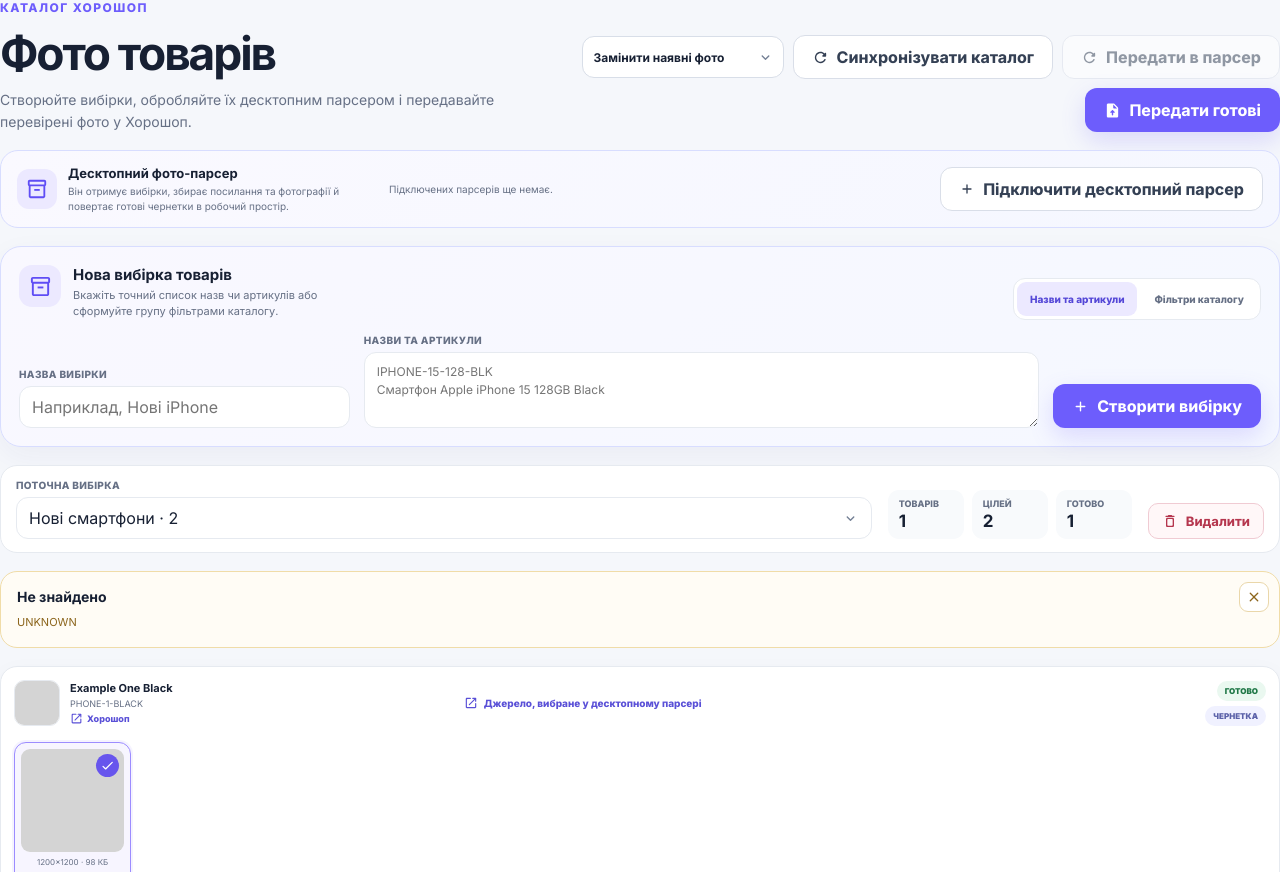
Test: HoroshopPhotoParserPage › removes a deleted selection from the page immediately
Expected: the button with aria-label "Поточна вибірка товарів" reads "Нові смартфони · 2", [16,497,872,539]
Click the button "Видалити" at (1206, 521), box [1148,503,1264,539]
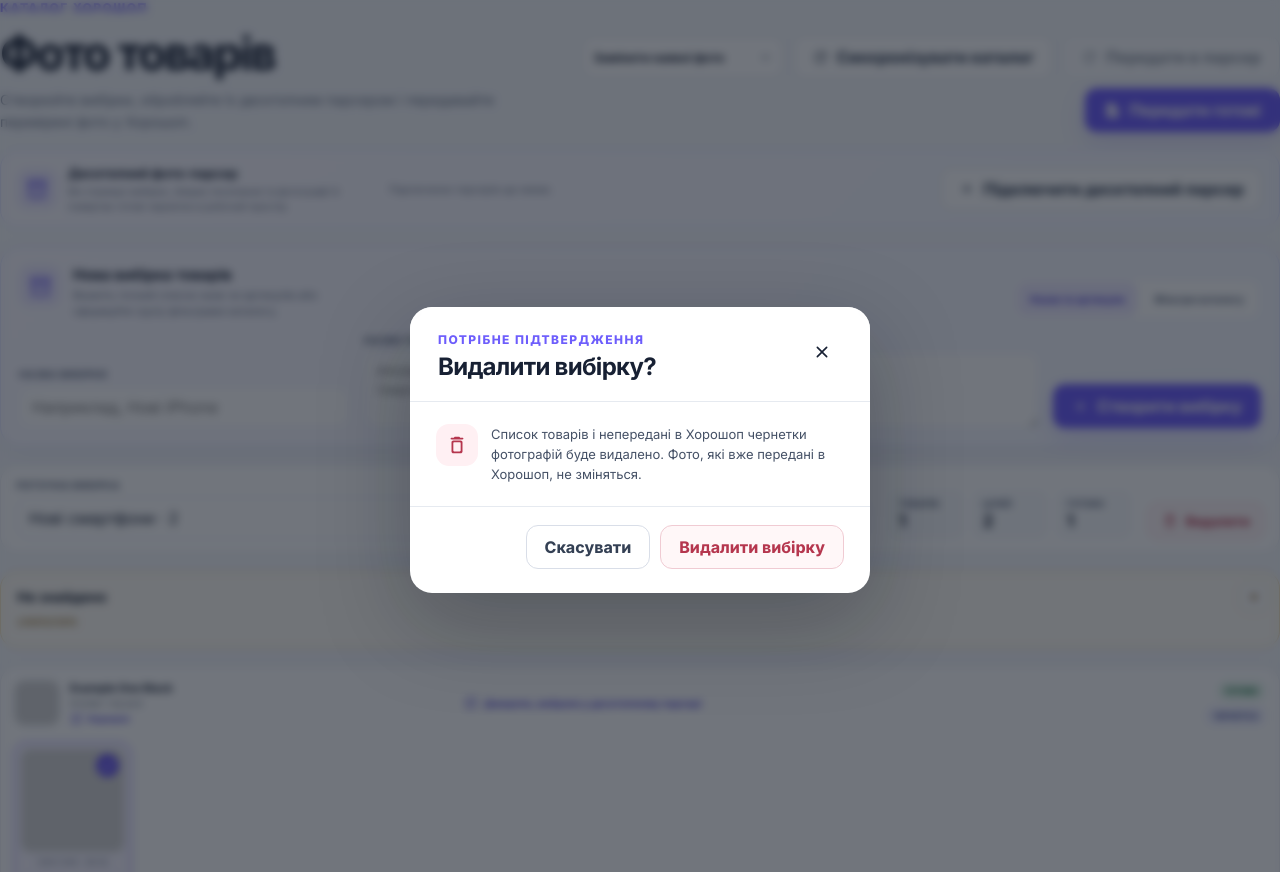
Click the button "Видалити вибірку" at (752, 547), box [660,525,844,569]
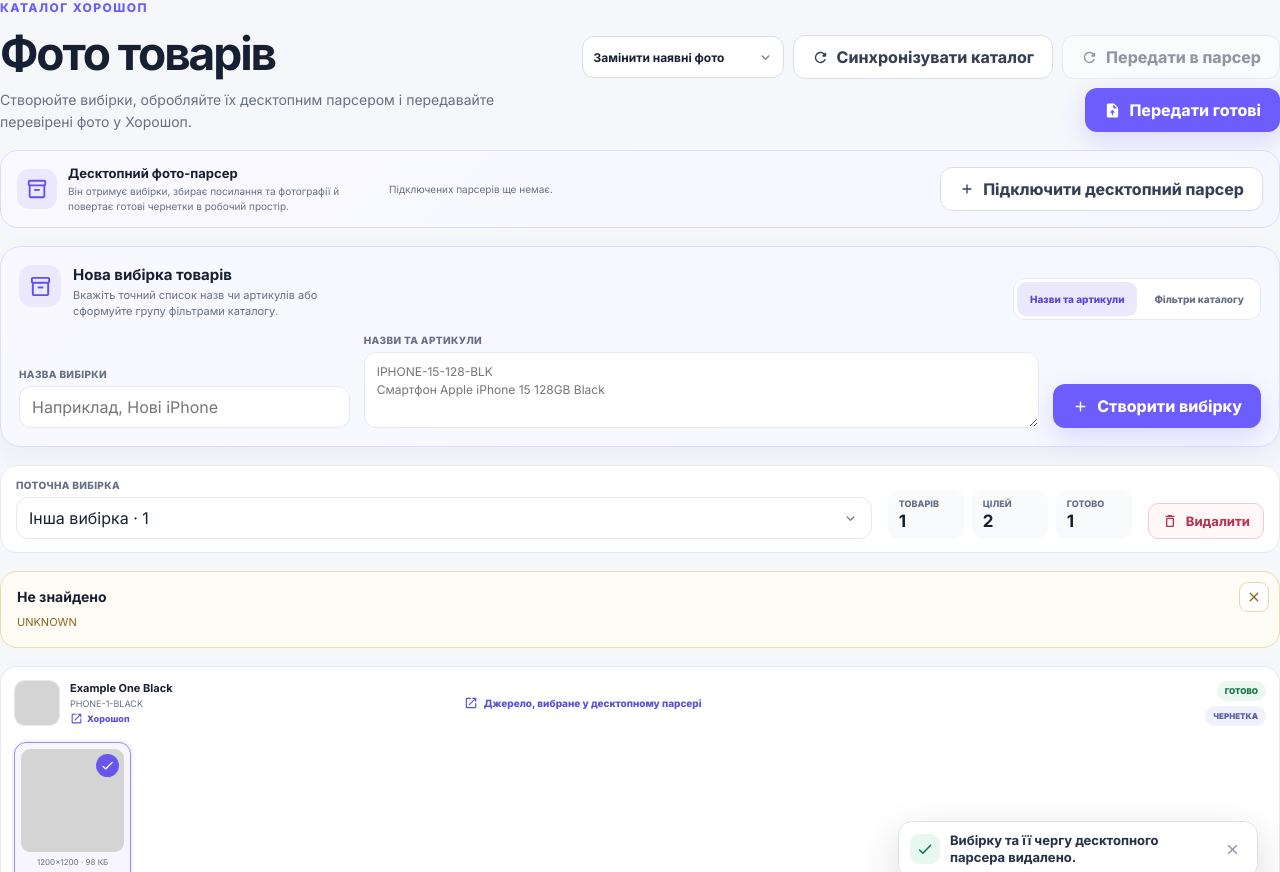
Now the button with aria-label "Поточна вибірка товарів" reads "Інша вибірка · 1", box [16,497,872,539]
